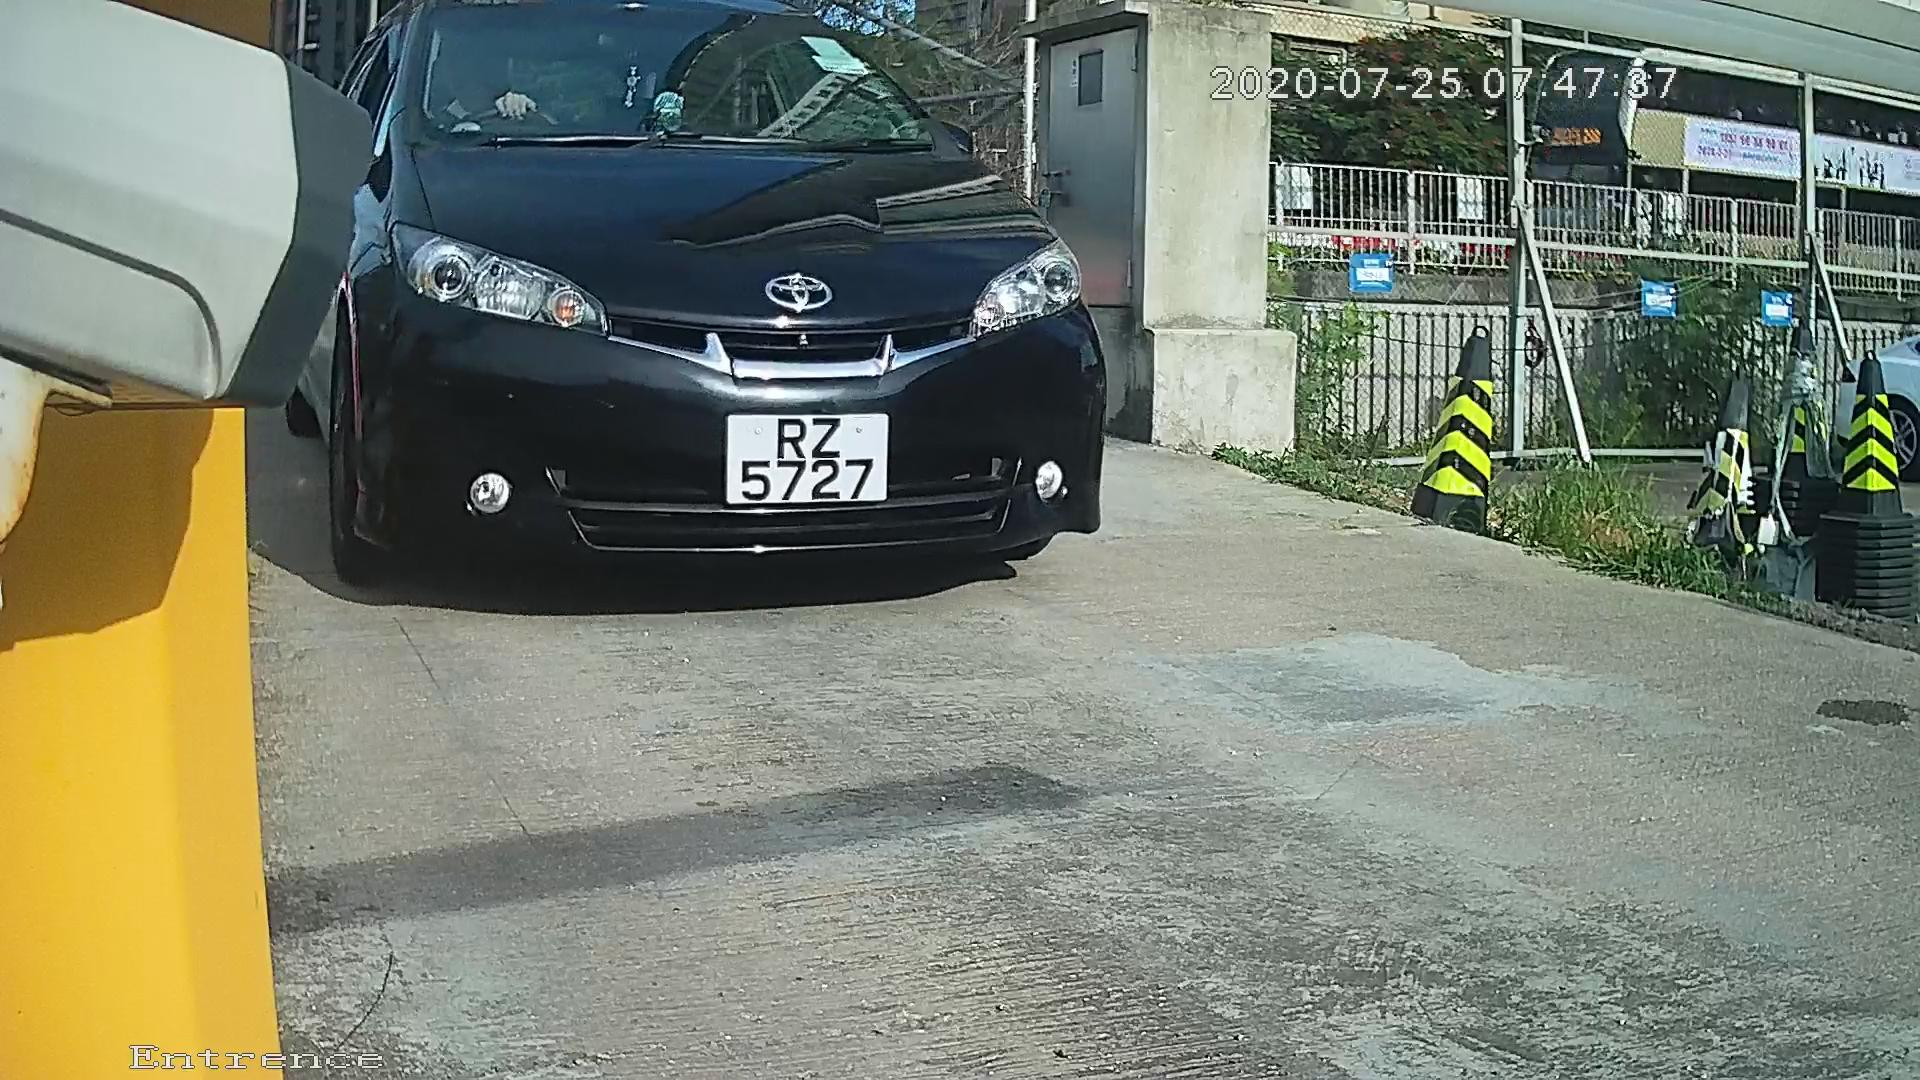Car: (112, 10, 1243, 642)
License Plate: (703, 396, 892, 516)
